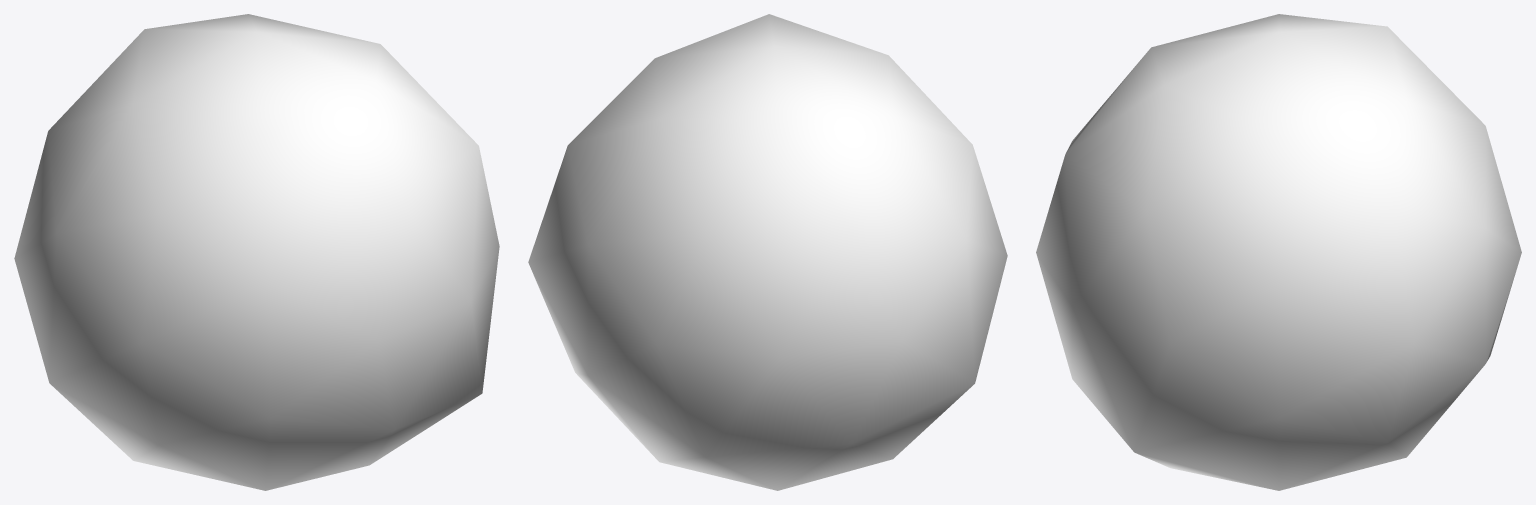
The model's file is BulletSnowball.fbx.
3 renders of one model, left to right at view 1: azimuth 30°, elevation 25°; view 2: azimuth 150°, elevation 25°; view 3: azimuth 270°, elevation 25°, orthographic. The views are drawn at different scales.
Visible parts, largest first — view 1: Bullet_SnowBall; view 2: Bullet_SnowBall; view 3: Bullet_SnowBall.
Part boxes in pixels (left/top/right/bottom): Bullet_SnowBall: left=14, top=14, right=499, bottom=490; Bullet_SnowBall: left=528, top=14, right=1007, bottom=490; Bullet_SnowBall: left=1036, top=14, right=1521, bottom=490.
Bounding box in the file's own units: 0.257 × 0.2648 × 0.2648.
